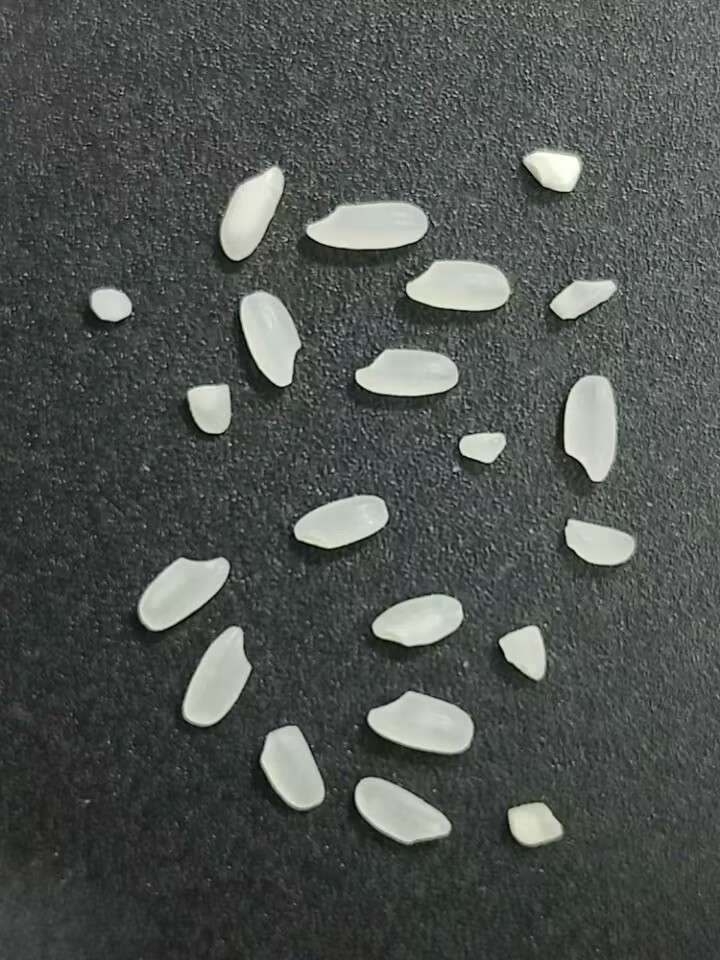broken: (260, 724, 324, 810), (547, 275, 618, 323), (565, 519, 635, 566), (497, 622, 548, 686), (507, 799, 565, 849), (518, 149, 582, 194), (185, 382, 233, 436), (86, 287, 134, 326), (459, 432, 507, 462)
rice: (179, 622, 253, 730), (136, 551, 231, 632), (353, 775, 453, 847), (366, 690, 475, 756), (299, 200, 432, 252), (219, 163, 286, 263), (238, 291, 303, 389), (289, 491, 390, 551), (563, 374, 618, 483), (368, 591, 464, 653), (404, 257, 512, 312), (352, 345, 459, 397)
